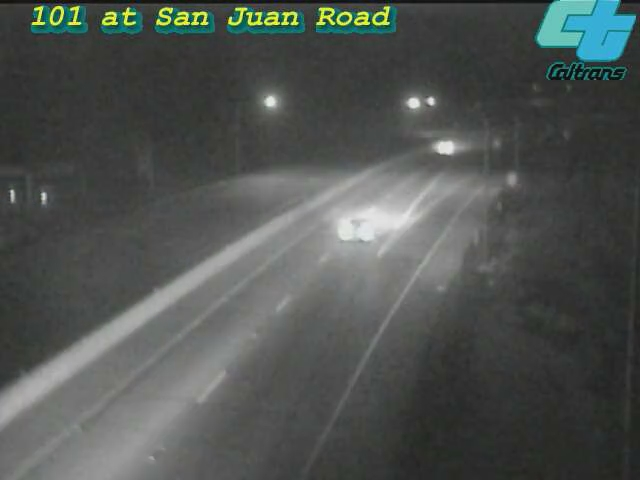vehicle: (317, 191, 397, 271), (424, 123, 474, 173)
